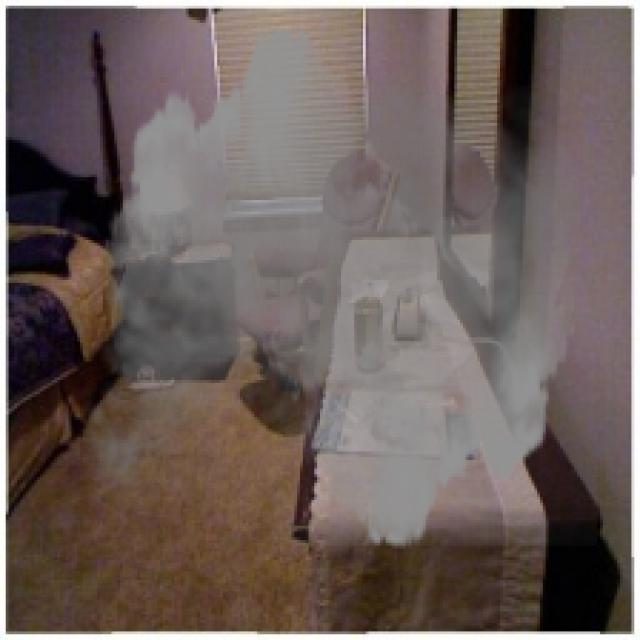smoke: (69, 8, 597, 566)
